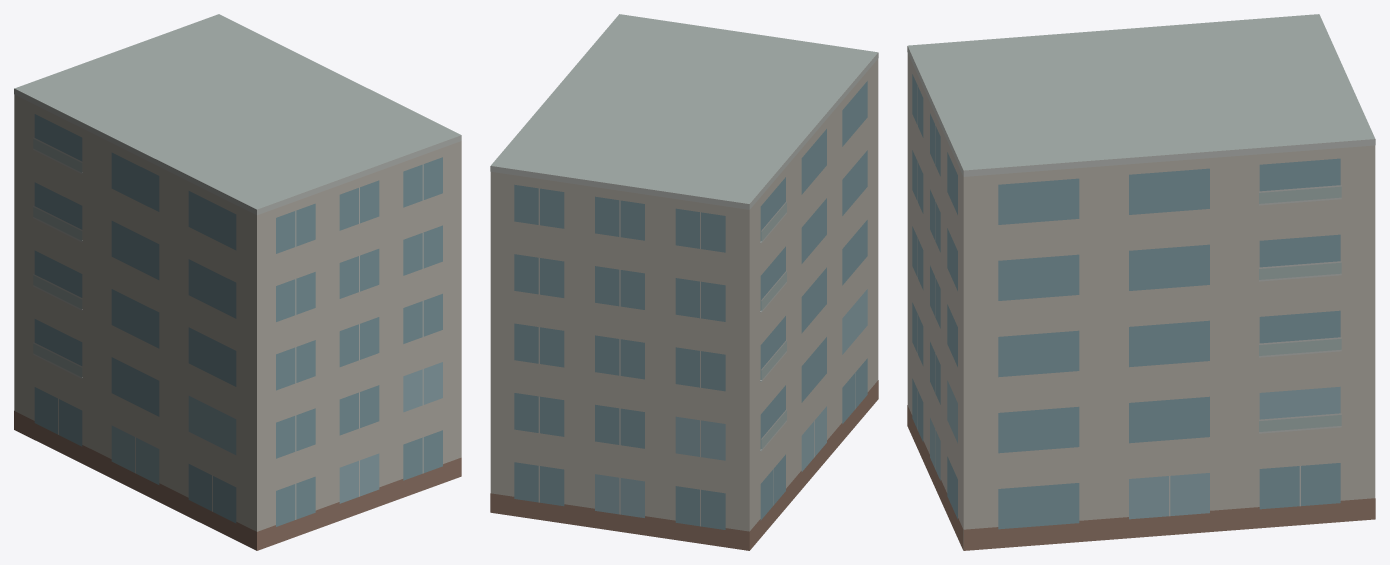
The model's file is survey-upis-32992278.glb.
3 renders of one model, left to right at view 1: azimuth 30°, elevation 25°; view 2: azimuth 150°, elevation 25°; view 3: azimuth 270°, elevation 25°, orthographic. The views are drawn at different scales.
Visible parts, largest first — view 1: survey-upis-32992278.tmp; view 2: survey-upis-32992278.tmp; view 3: survey-upis-32992278.tmp.
Boxes of the visible parts, <box> form: survey-upis-32992278.tmp: <box>14,14,461,550</box>; survey-upis-32992278.tmp: <box>490,14,878,550</box>; survey-upis-32992278.tmp: <box>907,14,1375,550</box>.
Size of the model in its own units: 12.81 by 14.5 by 16.18.
